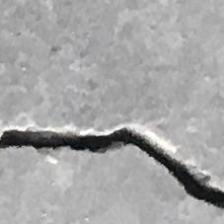Crack: (0, 114, 224, 212)
